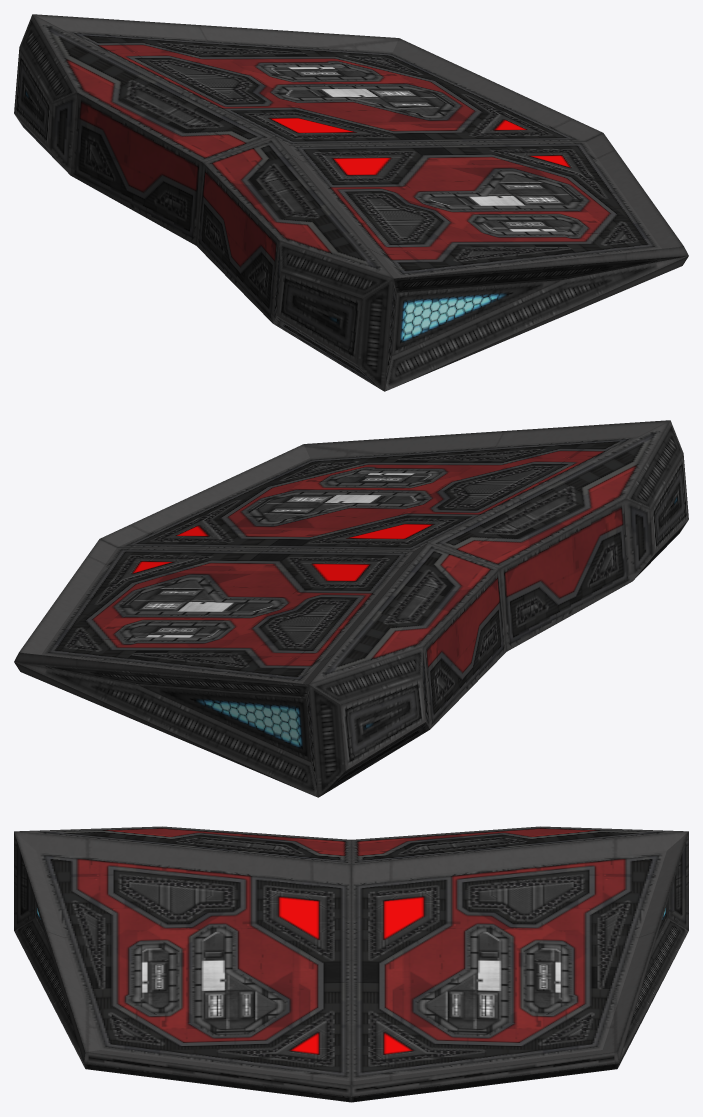
File: BFP_SB_OuterPlatform01.FBX
The picture shows the model from 3 angles, top to bottom: view 1: azimuth 30°, elevation 25°; view 2: azimuth 150°, elevation 25°; view 3: azimuth 270°, elevation 25°; orthographic projection. The views are drawn at different scales.
Visible parts, largest first — view 1: BFP_SB_OuterPlatform01; view 2: BFP_SB_OuterPlatform01; view 3: BFP_SB_OuterPlatform01.
Part boxes in pixels (x1,y1,x2,y2): BFP_SB_OuterPlatform01: (14,14,688,391); BFP_SB_OuterPlatform01: (14,420,688,797); BFP_SB_OuterPlatform01: (14,826,688,1102).
Bounding box in the file's own units: 1580 × 395 × 2220.
Materials: 1 (1 with a texture image).
